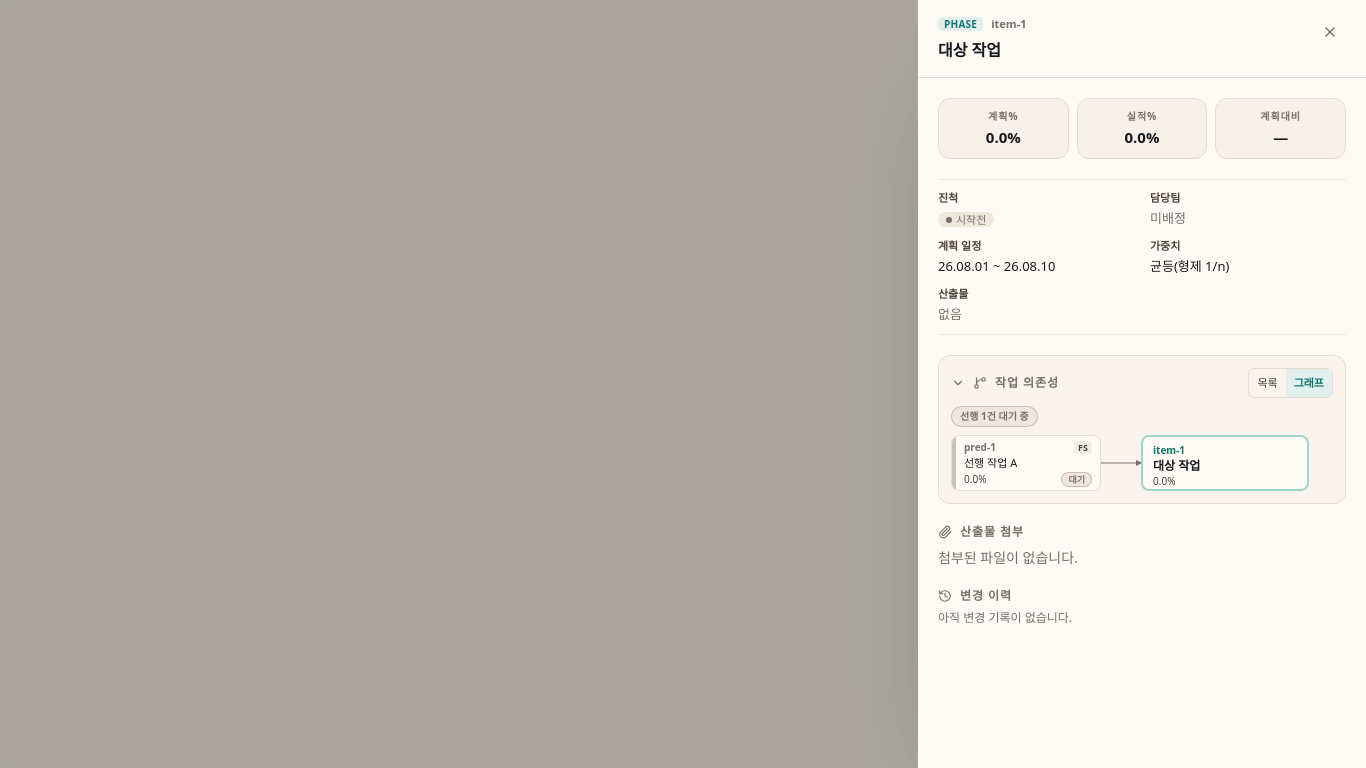
Test: RowDetailPanel — 선행/후속 섹션 › 그래프 뷰 › 토글로 목록과 그래프를 오간다
Click the button "목록" at (1268, 383), box [1249,369,1286,397]
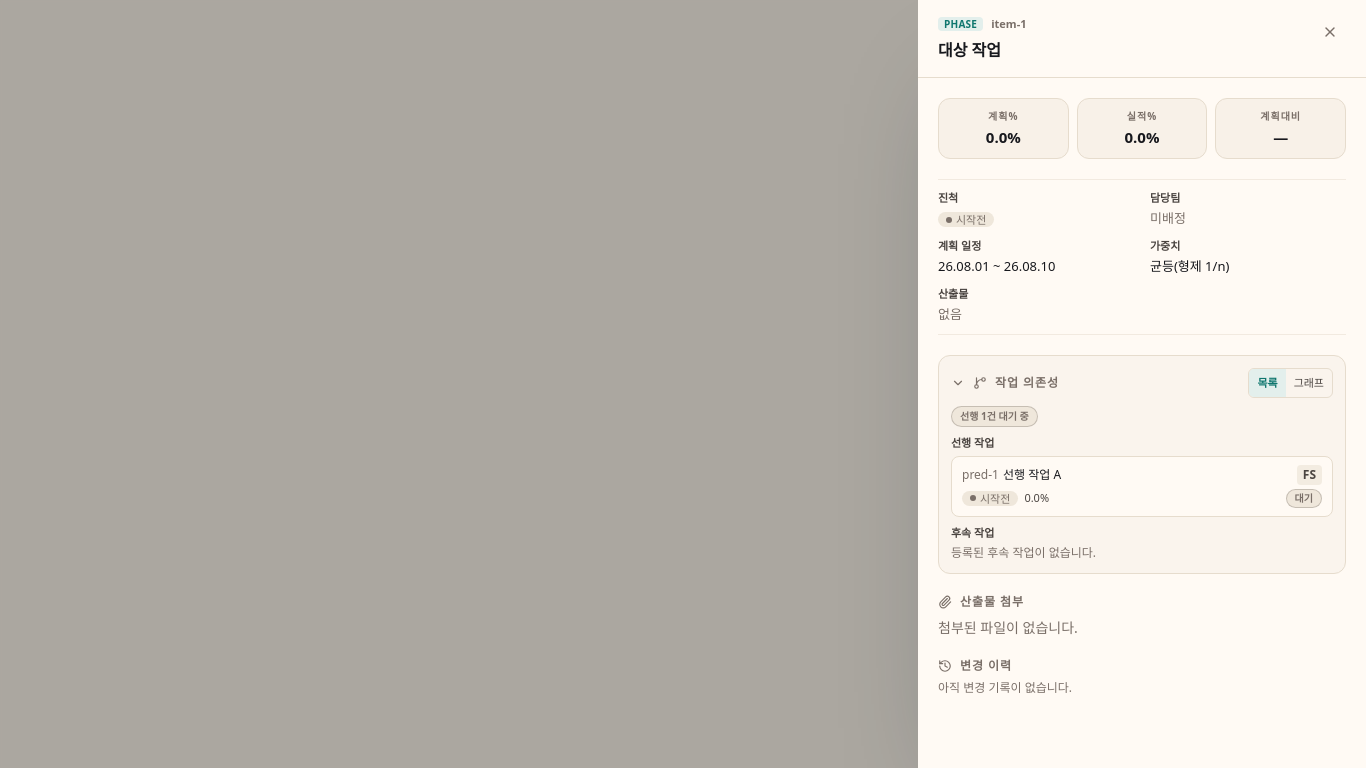
Now the list item "pred-1선행 작업 A FS 시작전 0.0% 대기" is shown, box [951,456,1333,517]
Click the button "그래프" at (1309, 383), box [1286,369,1332,397]
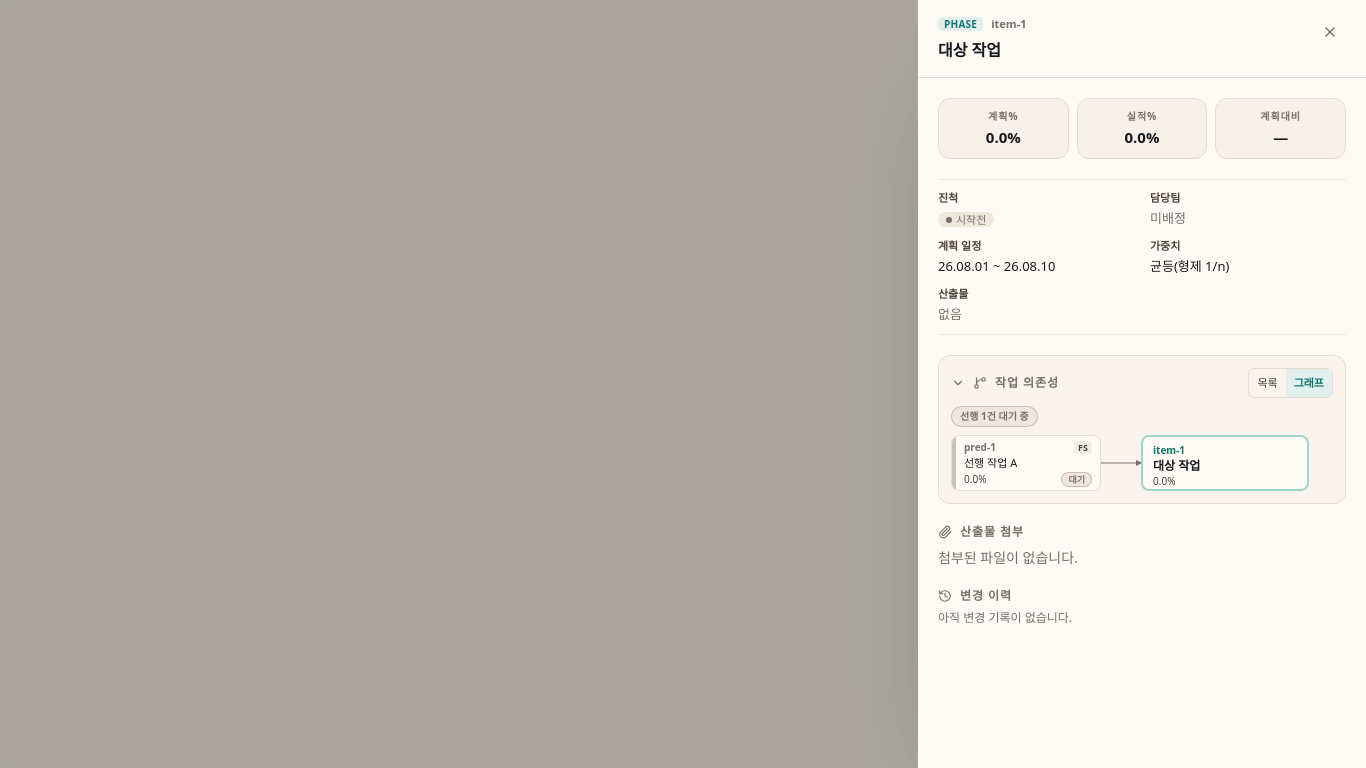
Expected: the text "선행 작업 A" is shown, [964,455,1017,470]
Now no list items are shown
